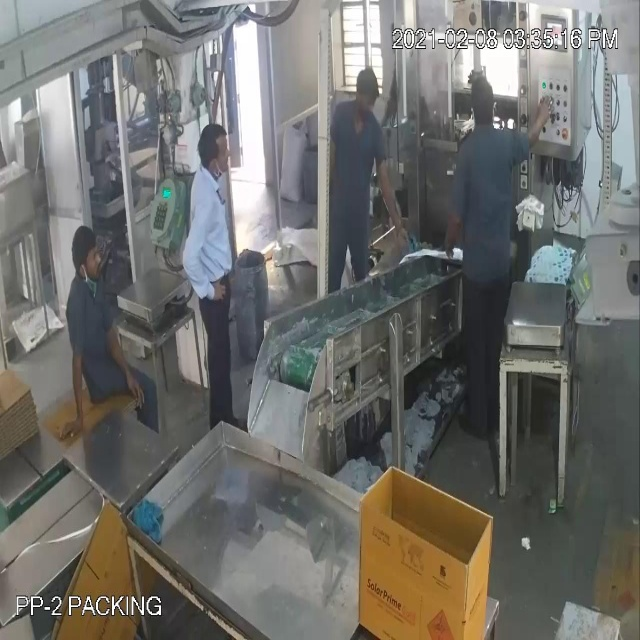Sin_guantes: (102, 308, 157, 428), (52, 323, 92, 464), (371, 132, 407, 237), (186, 221, 227, 310), (522, 84, 559, 164), (435, 187, 470, 267)
